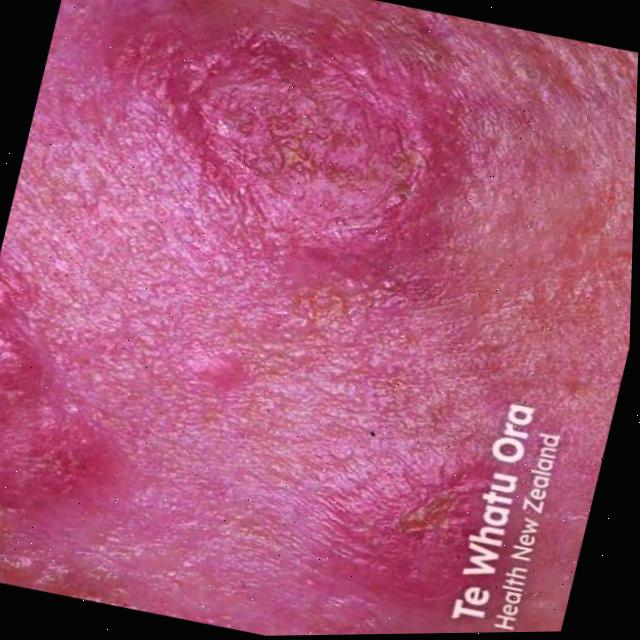lupus-detected: (139, 0, 518, 324), (247, 305, 595, 636), (0, 204, 160, 587)
